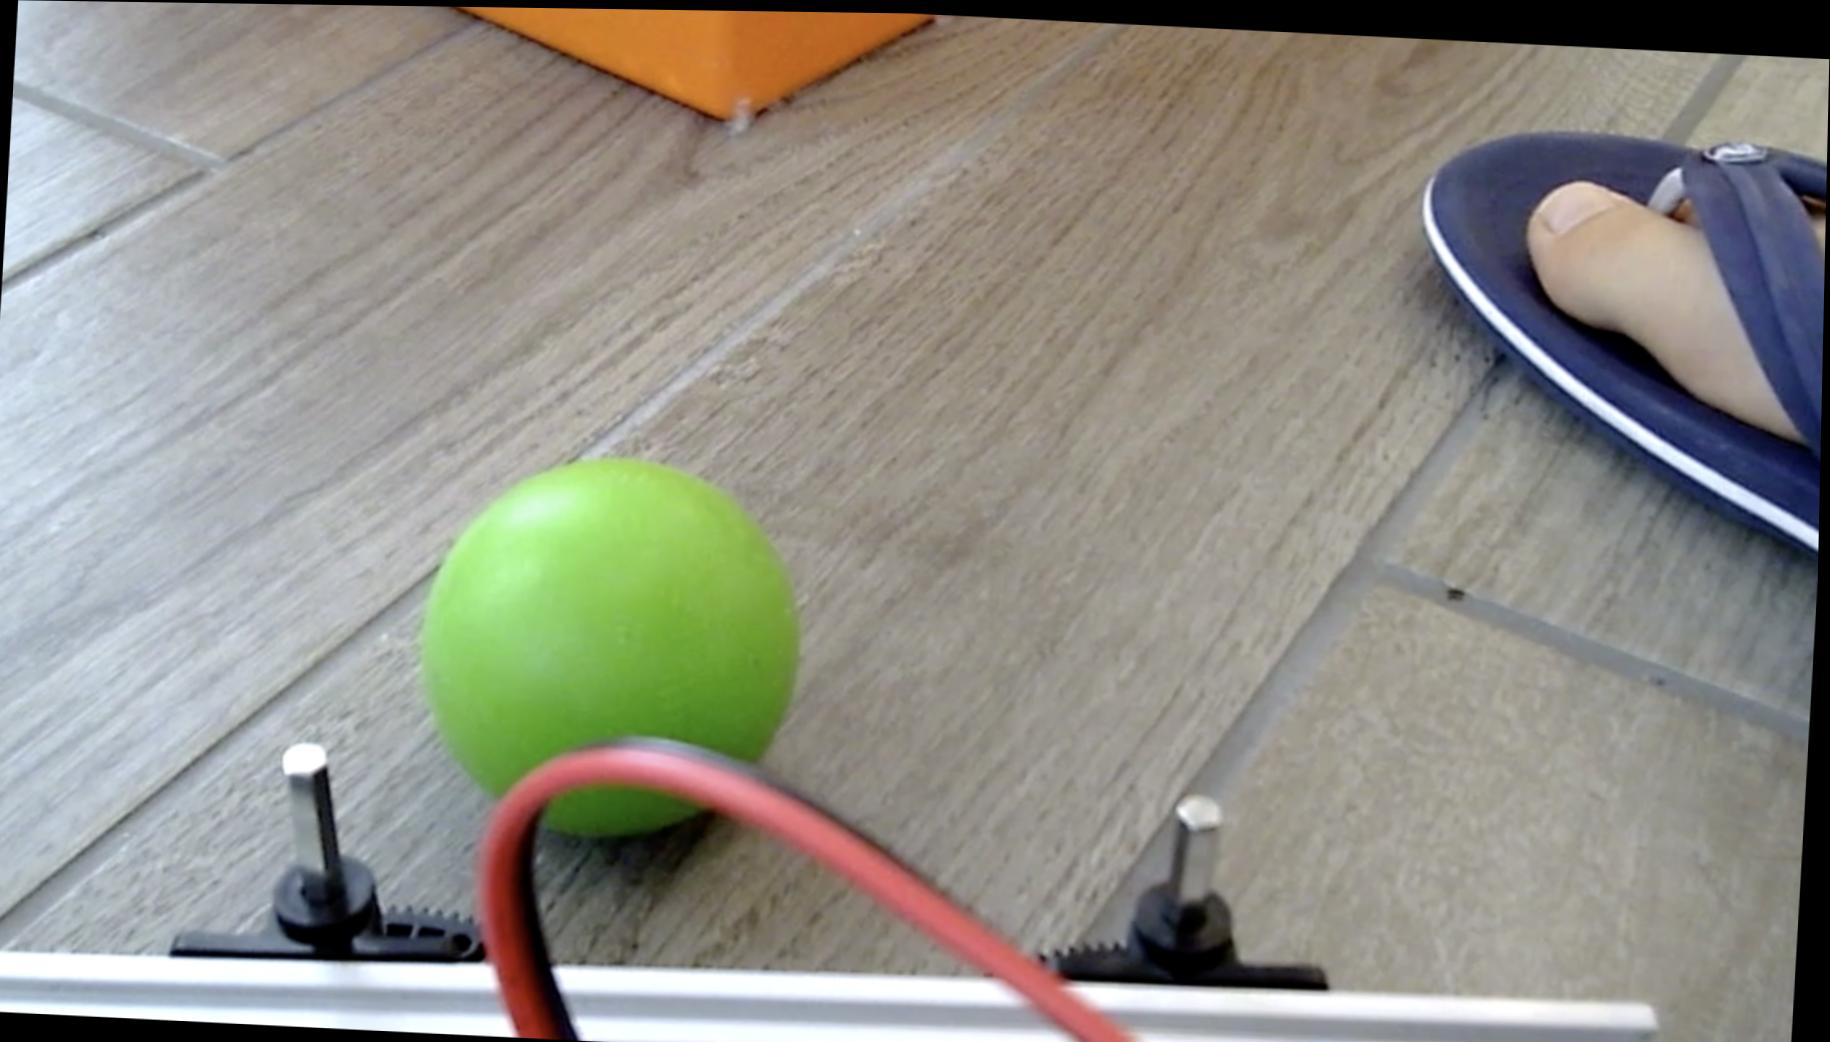greenball: (410, 444, 813, 851)
